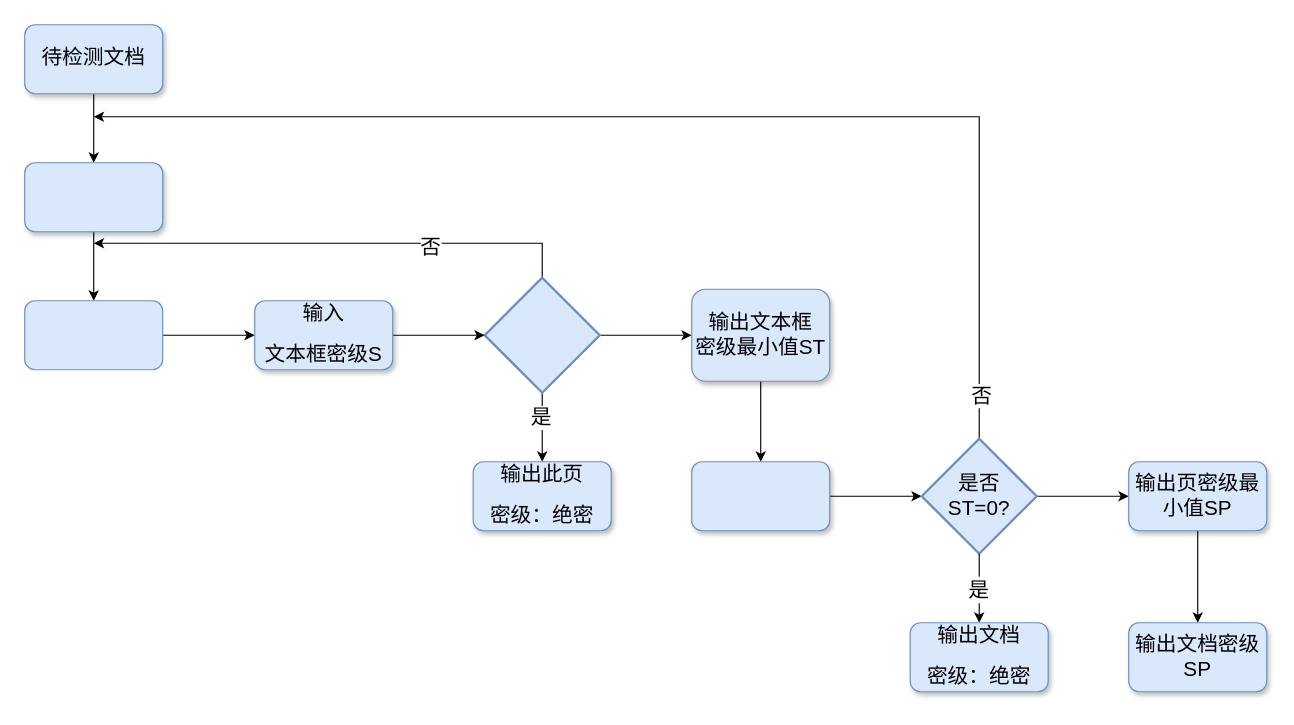
This 1294x725 diagram has some shape labels left out. Here are the shapes that lost their labels. From the top down, the centre of each, then its label:
At pixel 94 198: "取出一页".
At pixel 93 335: "取出 文本框图片".
At pixel 541 334: "是否 S=0?".
At pixel 761 497: "输出此页密级ST".
